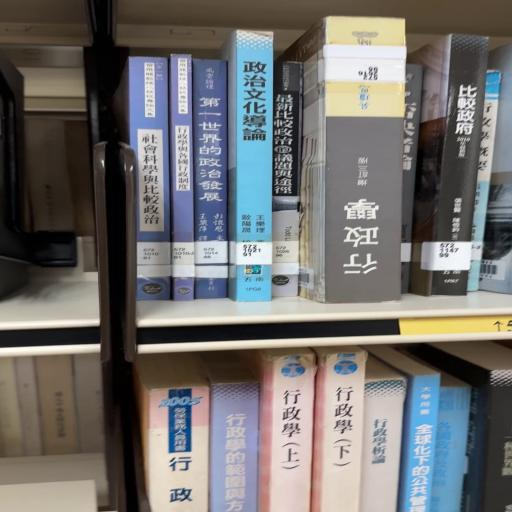reverse: (280, 16, 406, 303)
